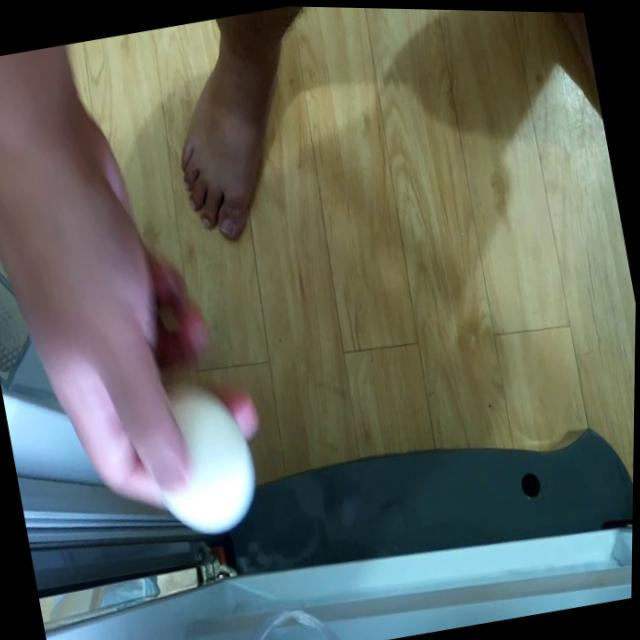egg: (141, 377, 264, 533)
